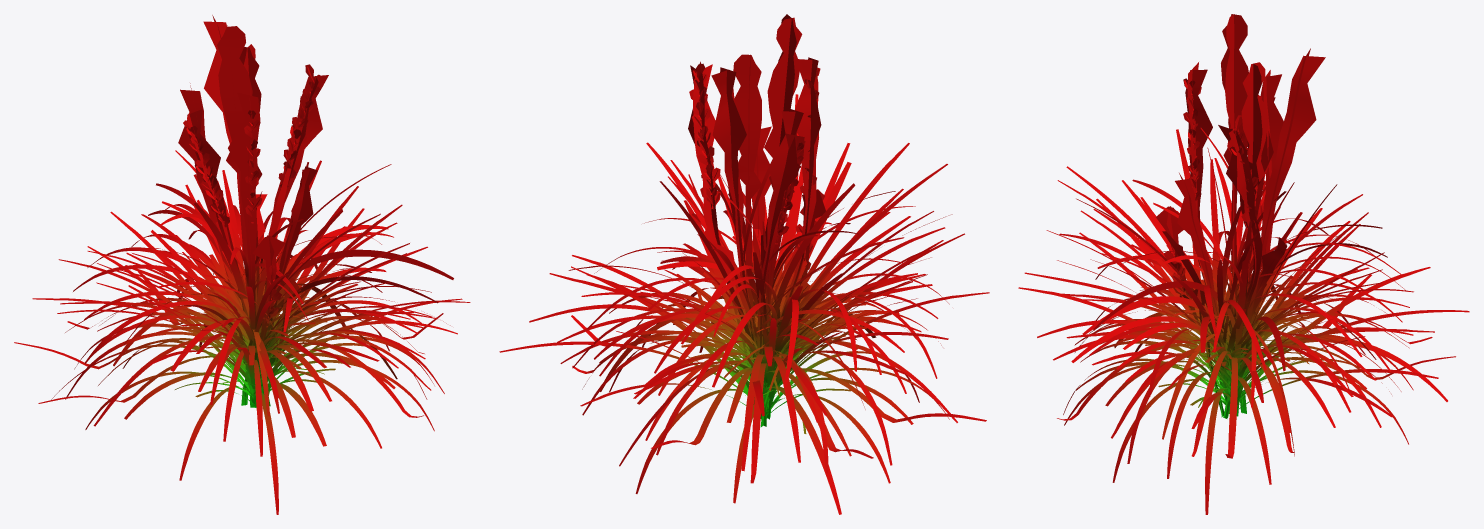
File: Var1_LOD1.fbx
The picture shows the model from 3 angles, left to right: view 1: azimuth 30°, elevation 25°; view 2: azimuth 150°, elevation 25°; view 3: azimuth 270°, elevation 25°; orthographic projection. The views are drawn at different scales.
Parts seen in each view (by area): view 1: _9034_Var1_LOD1; view 2: _9034_Var1_LOD1; view 3: _9034_Var1_LOD1.
Part boxes in pixels (x1,y1,x2,y2): _9034_Var1_LOD1: [14, 15, 470, 514]; _9034_Var1_LOD1: [499, 14, 989, 514]; _9034_Var1_LOD1: [1018, 14, 1469, 514].
Size of the model in its own units: 48.81 by 48.58 by 47.45.
